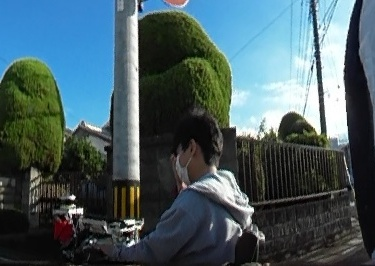person: (137, 106, 249, 266)
